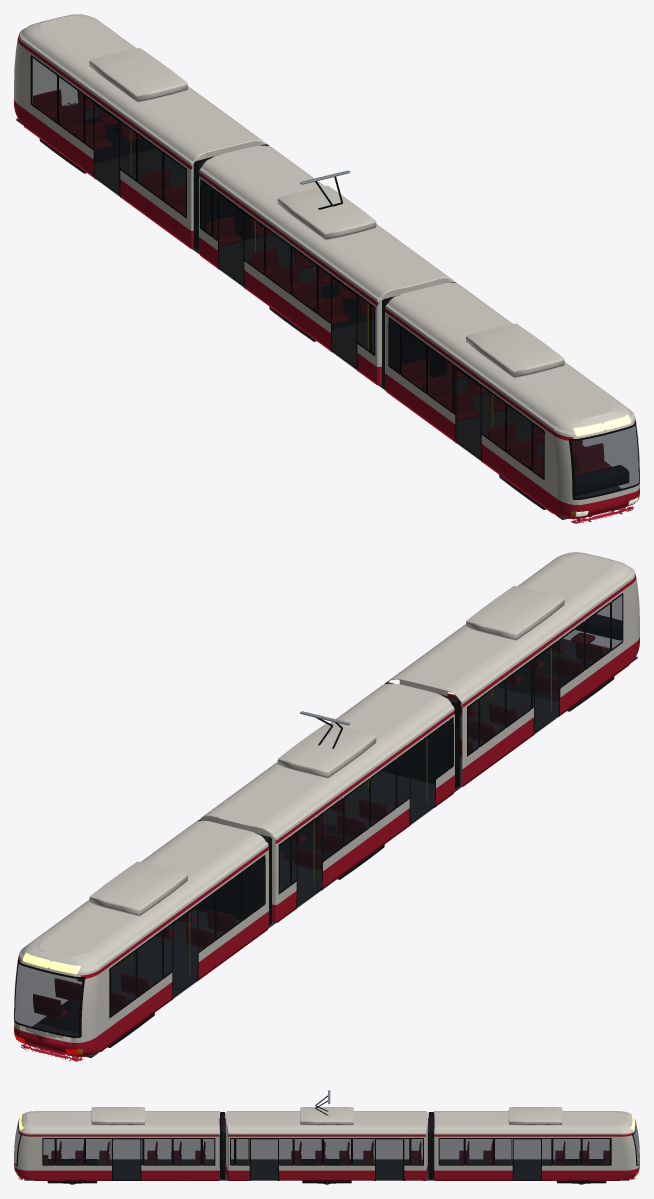
File: car_tram.glb
The picture shows the model from 3 angles, top to bottom: view 1: azimuth 30°, elevation 25°; view 2: azimuth 150°, elevation 25°; view 3: azimuth 270°, elevation 25°; orthographic projection. The views are drawn at different scales.
Parts seen in each view (by area): view 1: body, glass; view 2: body, glass; view 3: body, glass.
Part boxes in pixels (x1=…): body: x1=14, y1=14, x2=639, y2=523; glass: x1=32, y1=58, x2=638, y2=498; body: x1=14, y1=552, x2=639, y2=1061; glass: x1=15, y1=595, x2=622, y2=1036; body: x1=14, y1=1090, x2=639, y2=1183; glass: x1=14, y1=1122, x2=639, y2=1180.
Bounding box in the file's own units: 2.41 × 4.29 × 30.
